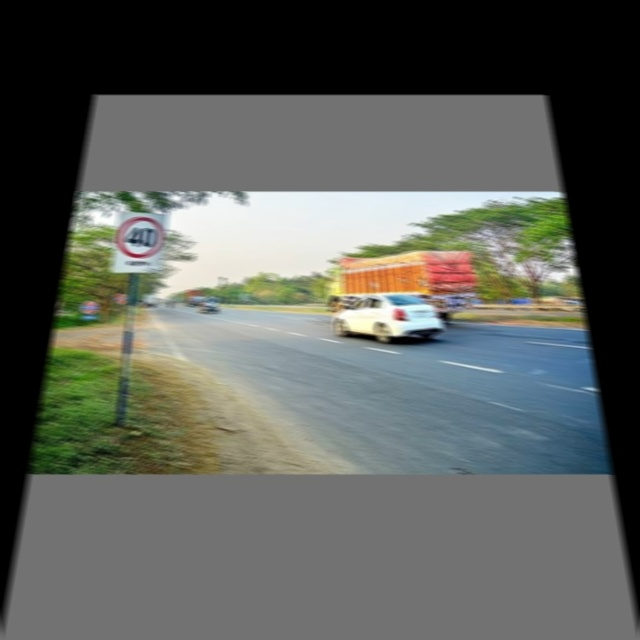Speed_Limit_40: (110, 209, 169, 275)
